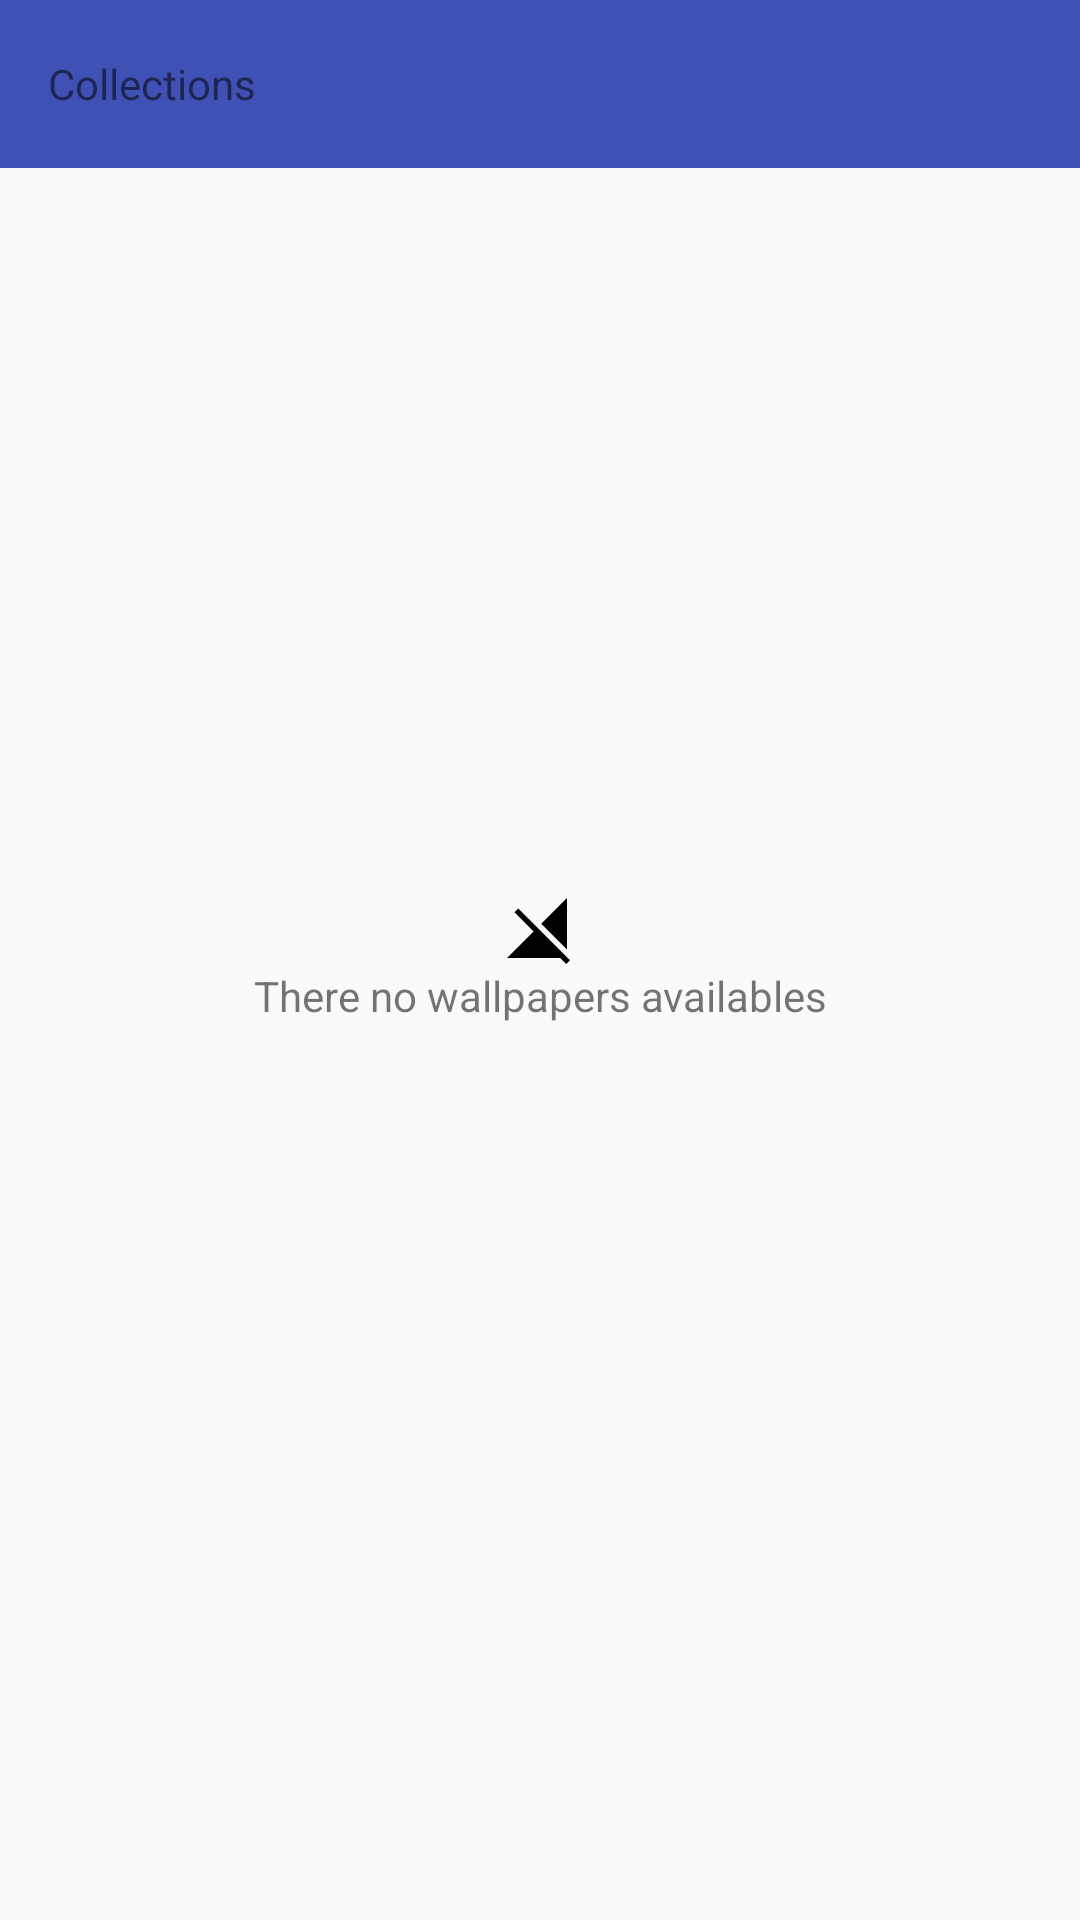

Screen size 1080px x 1920px. Icon name, then its center in pixels as point (x, y):
no network available: point (538, 931)
